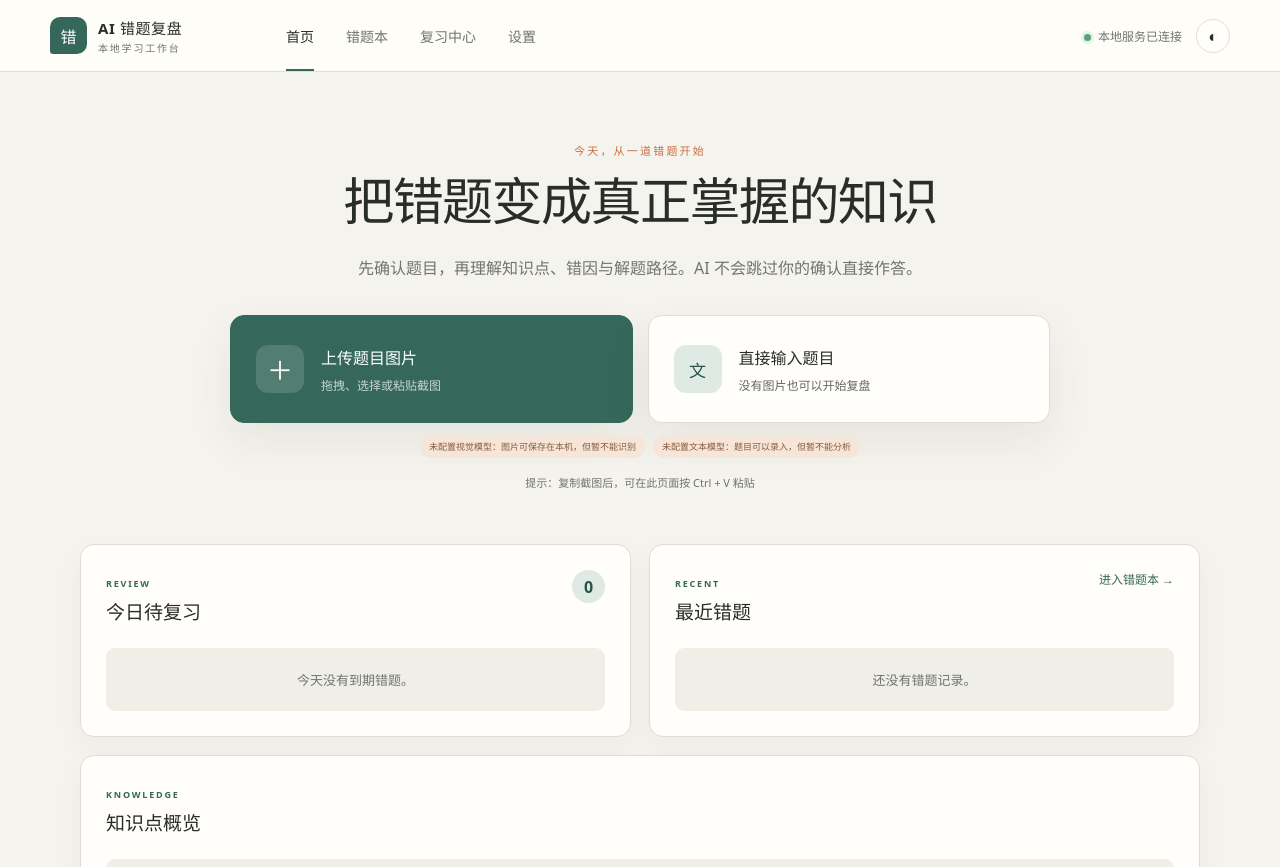
Test: 应用骨架 › 只有明确勾选完整性后才能确认题目
Click the button "文 直接输入题目 没有图片也可以开始复盘": (698, 369) [648, 315, 1050, 423]
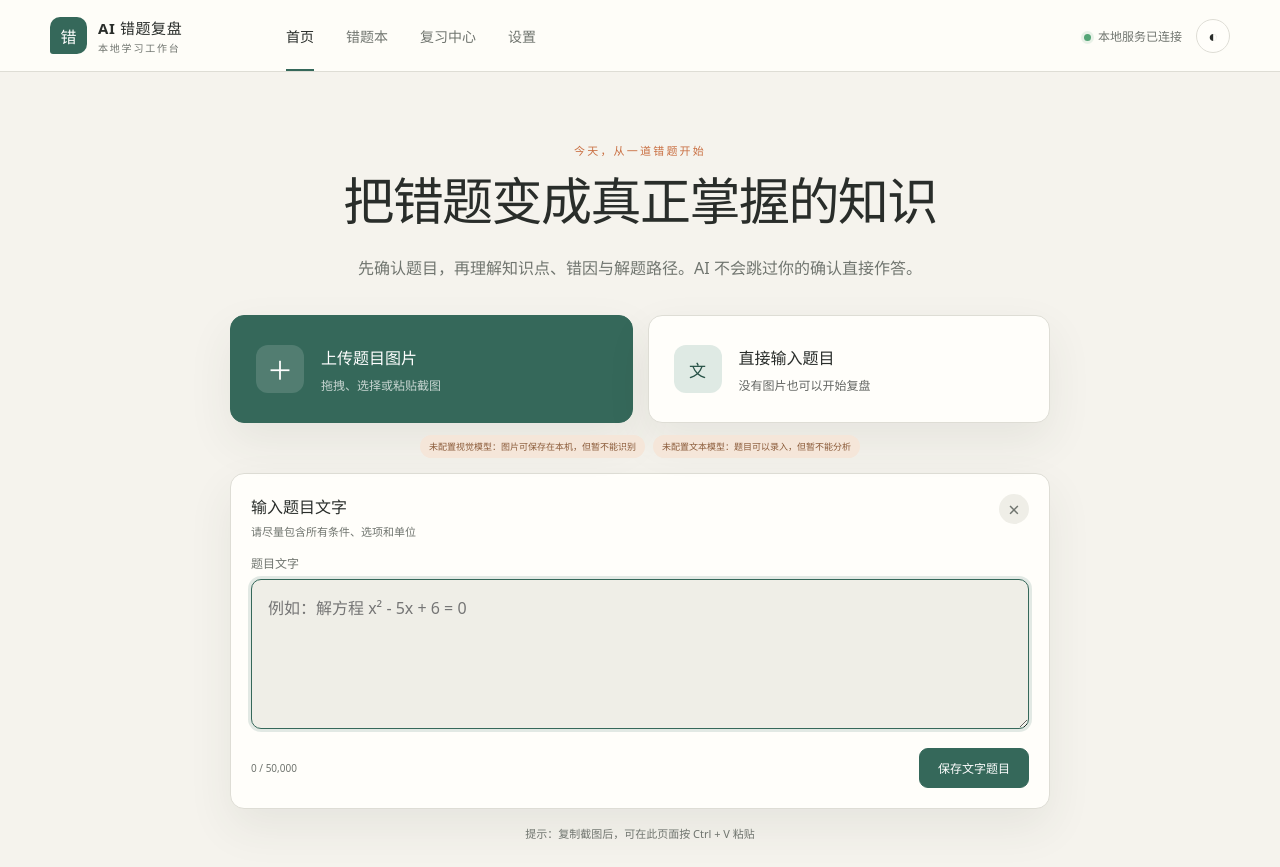
In the text box labelled "题目文字": (640, 654) [251, 579, 1029, 729], type "求 2 + 3 的值"
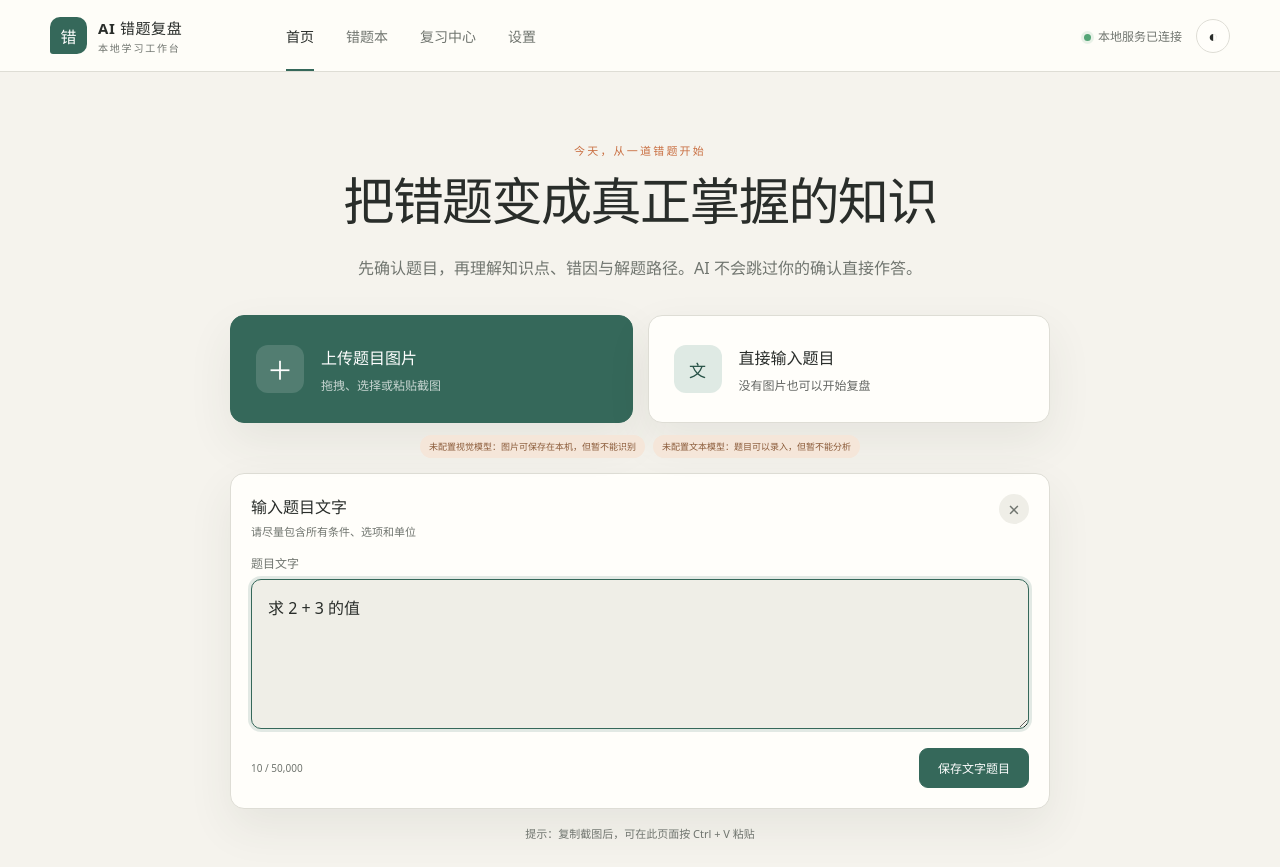
Click the button "保存文字题目": (974, 768) [919, 748, 1029, 788]
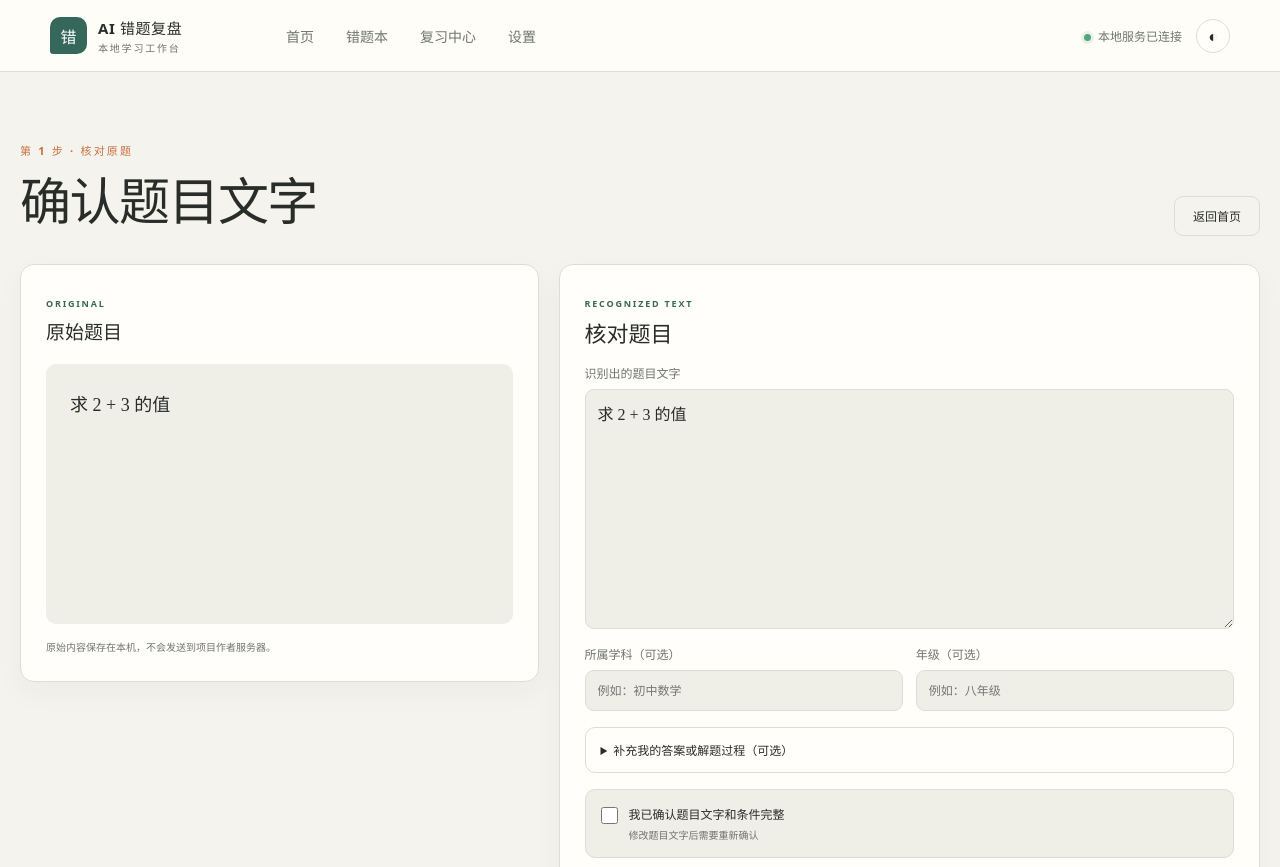
Click the checkbox labelled "我已确认题目文字和条件完整 修改题目文字后需要重新确认": (609, 815) [600, 807, 618, 824]
(page scrolled)
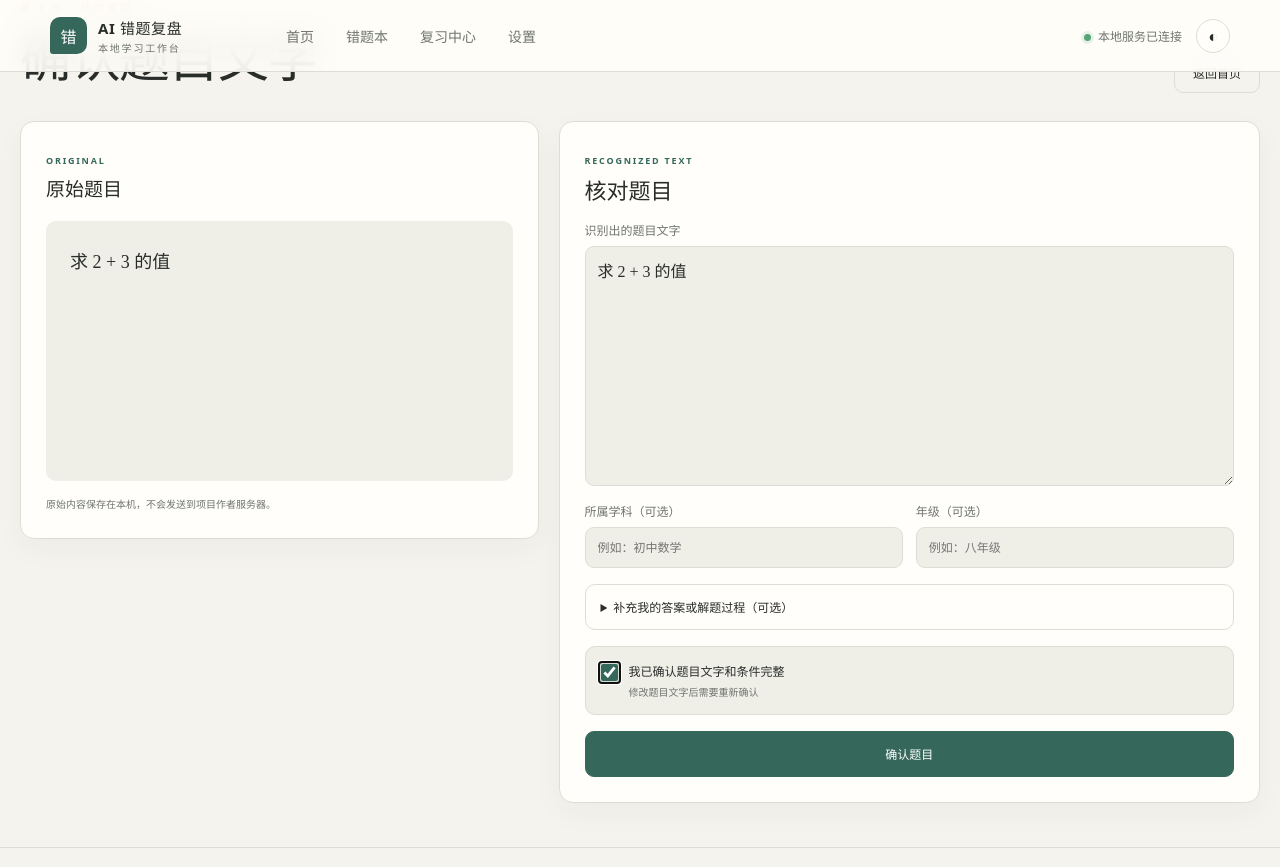
Click the button "确认题目": (909, 754) [584, 731, 1234, 777]
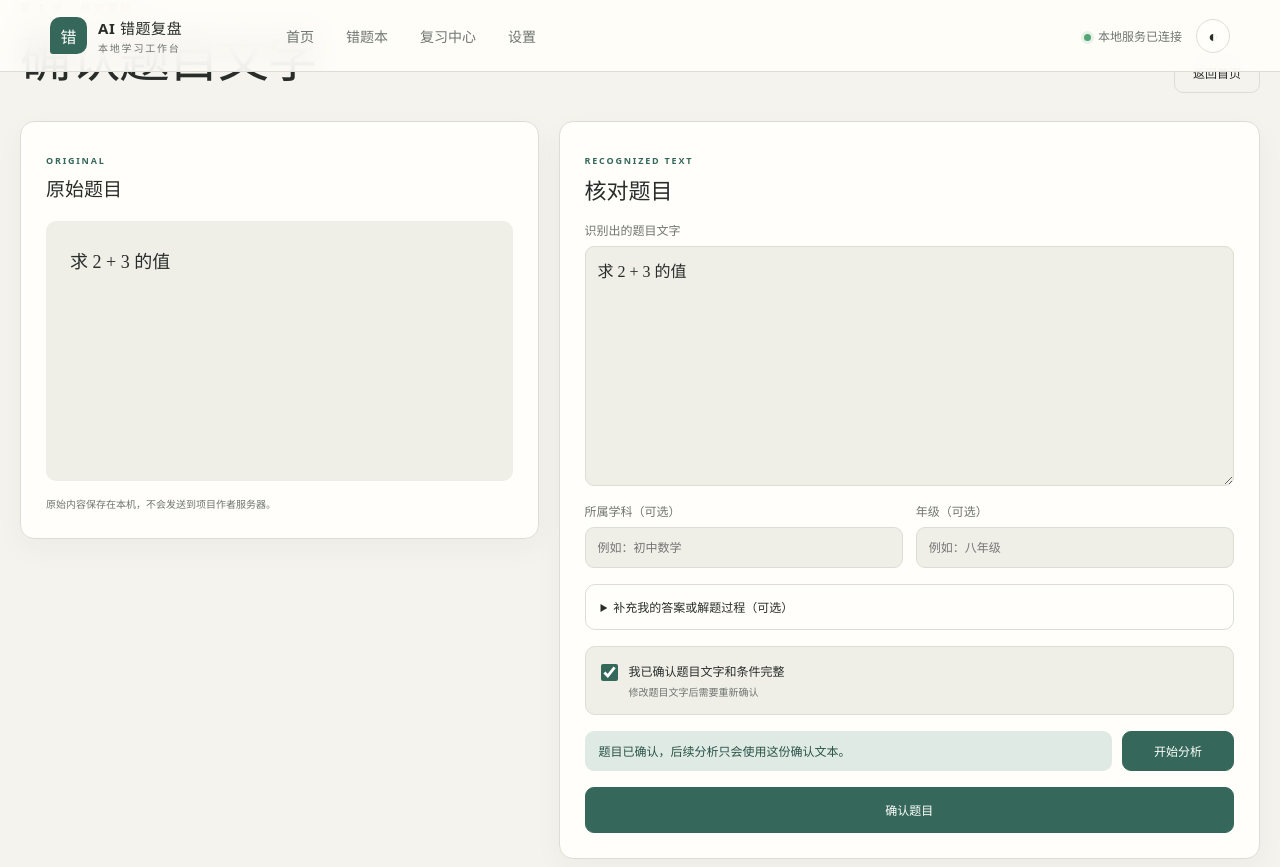
Expected: the text "题目已确认" is shown, [598, 743, 658, 760]
